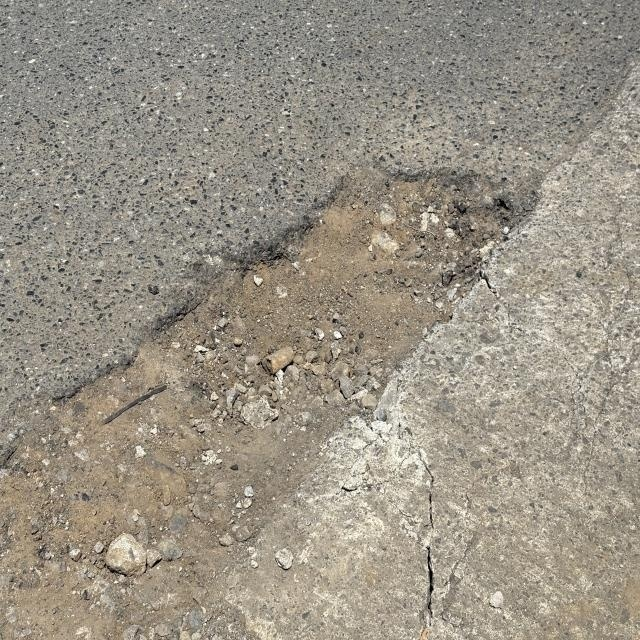pothole: (0, 135, 576, 640)
